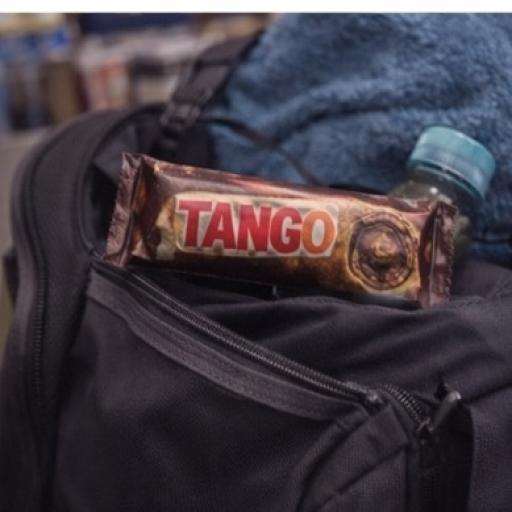tango: (83, 99, 492, 357)
